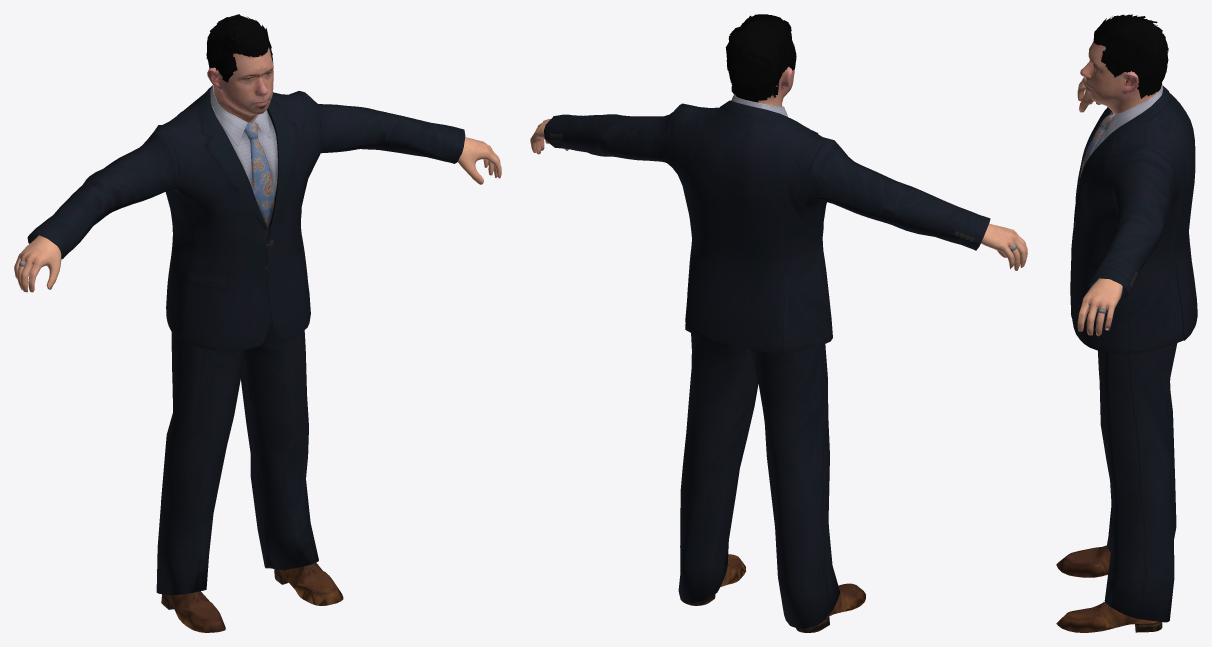
The model's file is wwe_michael_cole_2k22.glb.
3 views of the same model, side by side, from view 1: azimuth 30°, elevation 25°; view 2: azimuth 150°, elevation 25°; view 3: azimuth 270°, elevation 25° (orthographic). The views are drawn at different scales.
Parts seen in each view (by area): view 1: M_Jacket_1, M_Bottoms_10, M_Shoes_5, M_Head_13, M_Body_9, M_Hair_12; view 2: M_Jacket_1, M_Bottoms_10, M_Hair_12, M_Body_9, M_Shoes_5; view 3: M_Jacket_1, M_Bottoms_10, M_Hair_12, M_Shoes_5, M_Head_13, M_Body_9.
Part boxes in pixels (bbox=[...]): M_Jacket_1: bbox=[27, 85, 465, 350]; M_Bottoms_10: bbox=[156, 315, 318, 594]; M_Shoes_5: bbox=[161, 562, 343, 632]; M_Head_13: bbox=[207, 47, 273, 122]; M_Body_9: bbox=[14, 137, 501, 292]; M_Hair_12: bbox=[206, 14, 272, 87]; M_Jacket_1: bbox=[544, 95, 990, 353]; M_Bottoms_10: bbox=[678, 333, 840, 628]; M_Hair_12: bbox=[725, 14, 796, 102]; M_Body_9: bbox=[530, 119, 1027, 270]; M_Shoes_5: bbox=[680, 554, 865, 632]; M_Jacket_1: bbox=[1070, 84, 1197, 354]; M_Bottoms_10: bbox=[1098, 343, 1177, 622]; M_Hair_12: bbox=[1093, 14, 1168, 98]; M_Shoes_5: bbox=[1056, 545, 1162, 632]; M_Head_13: bbox=[1080, 40, 1157, 115]; M_Body_9: bbox=[1077, 77, 1122, 336].
Size of the model in its own units: 1.53 by 1.77 by 0.3883.
12 materials, 9 textured.
